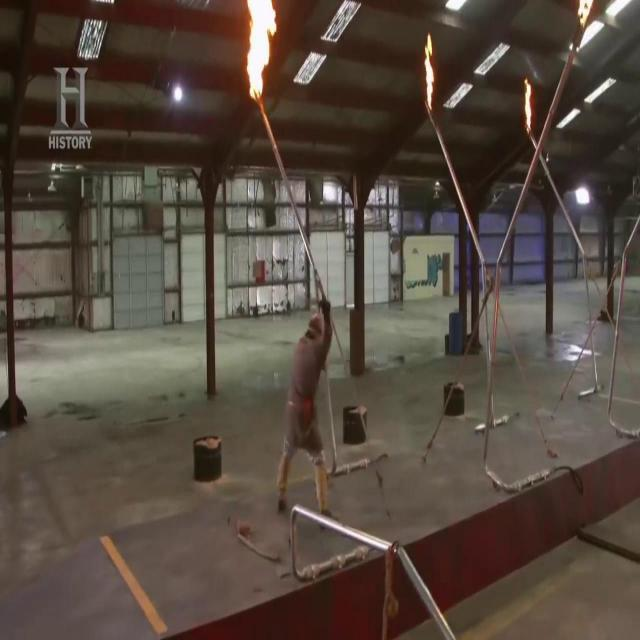Fire: (237, 6, 280, 99), (414, 34, 446, 110), (510, 79, 540, 135)
